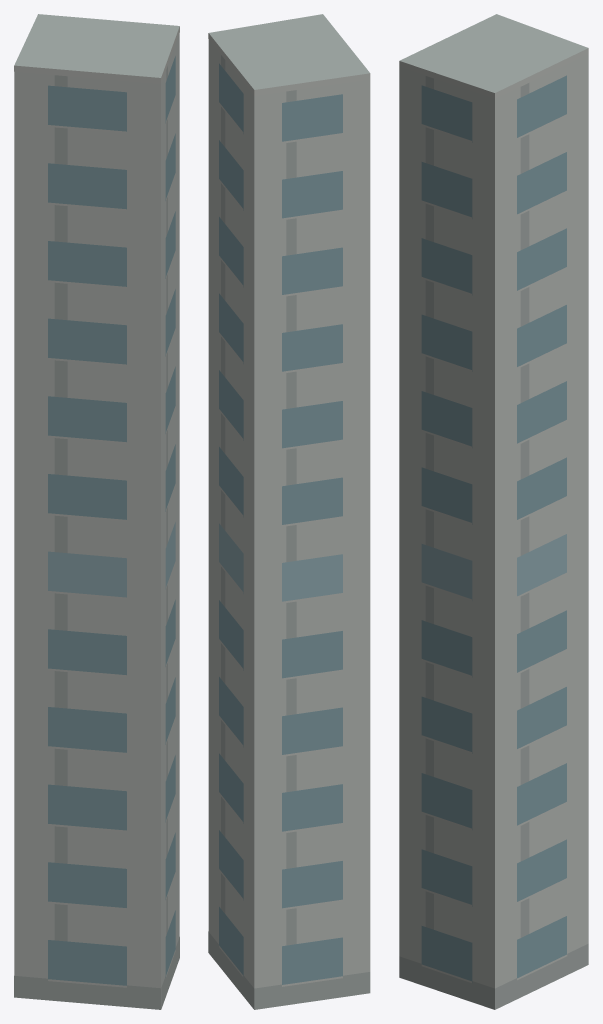
The model's file is survey-upis-32623381.glb.
3 renders of one model, left to right at view 1: azimuth 30°, elevation 25°; view 2: azimuth 150°, elevation 25°; view 3: azimuth 270°, elevation 25°, orthographic.
Parts seen in each view (by area): view 1: survey-upis-32623381.tmp; view 2: survey-upis-32623381.tmp; view 3: survey-upis-32623381.tmp.
Boxes of the visible parts, bbox=[...] form: survey-upis-32623381.tmp: bbox=[14, 14, 179, 1009]; survey-upis-32623381.tmp: bbox=[208, 14, 370, 1009]; survey-upis-32623381.tmp: bbox=[399, 14, 588, 1009].
Size of the model in its own units: 6.78 by 36.6 by 6.86.
